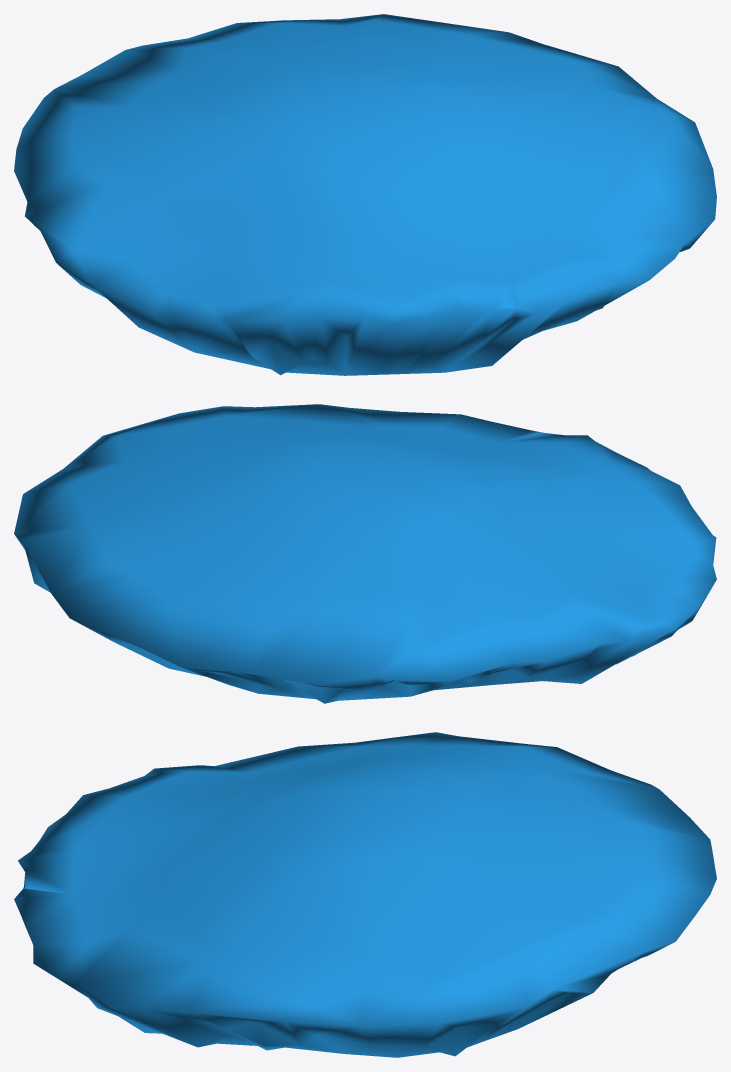
File: SM_flat_mushroom_04.fbx
The picture shows the model from 3 angles, top to bottom: view 1: azimuth 30°, elevation 25°; view 2: azimuth 150°, elevation 25°; view 3: azimuth 270°, elevation 25°; orthographic projection.
Visible parts, largest first — view 1: flat_mushroom_04; view 2: flat_mushroom_04; view 3: flat_mushroom_04.
Boxes of the visible parts, <box> form: flat_mushroom_04: <box>14,14,716,375</box>; flat_mushroom_04: <box>14,404,716,703</box>; flat_mushroom_04: <box>14,732,716,1057</box>.
Bounding box in the file's own units: 421 × 134 × 420.
